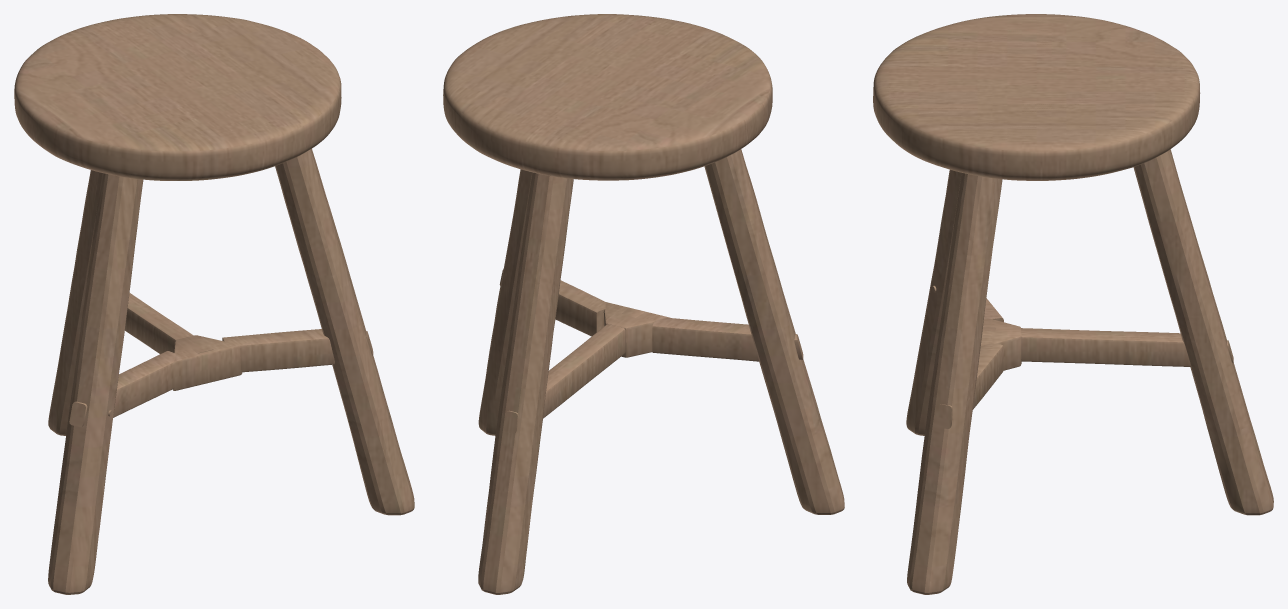
File: recyUilQe2b5Xk5Zs.glb
The picture shows the model from 3 angles, left to right: view 1: azimuth 30°, elevation 25°; view 2: azimuth 150°, elevation 25°; view 3: azimuth 270°, elevation 25°; orthographic projection.
Visible parts, largest first — view 1: Tabouret_Assise, Tabouret_Pied_Avant_G, Tabouret_Pied_Avant_D, Tabouret_Pied_Arriere, Tabouret_Traverse_Avant_D, Tabouret_Noeud_Central, Tabouret_Traverse_Avant_G, Tabouret_Traverse_Arriere; view 2: Tabouret_Assise, Tabouret_Pied_Arriere, Tabouret_Pied_Avant_G, Tabouret_Pied_Avant_D, Tabouret_Traverse_Avant_G, Tabouret_Traverse_Arriere, Tabouret_Traverse_Avant_D, Tabouret_Noeud_Central; view 3: Tabouret_Assise, Tabouret_Pied_Avant_D, Tabouret_Pied_Arriere, Tabouret_Traverse_Arriere, Tabouret_Pied_Avant_G, Tabouret_Traverse_Avant_D, Tabouret_Noeud_Central.
Boxes of the visible parts, <box> form: Tabouret_Assise: <box>14,14,341,180</box>; Tabouret_Pied_Avant_G: <box>48,173,143,594</box>; Tabouret_Pied_Avant_D: <box>275,148,414,515</box>; Tabouret_Pied_Arriere: <box>48,170,102,435</box>; Tabouret_Traverse_Avant_D: <box>222,329,373,372</box>; Tabouret_Noeud_Central: <box>173,335,242,390</box>; Tabouret_Traverse_Avant_G: <box>69,351,175,426</box>; Tabouret_Traverse_Arriere: <box>125,293,213,353</box>; Tabouret_Assise: <box>443,14,772,180</box>; Tabouret_Pied_Arriere: <box>478,172,573,594</box>; Tabouret_Pied_Avant_G: <box>704,149,844,514</box>; Tabouret_Pied_Avant_D: <box>478,169,532,435</box>; Tabouret_Traverse_Avant_G: <box>652,318,803,361</box>; Tabouret_Traverse_Arriere: <box>504,308,643,433</box>; Tabouret_Traverse_Avant_D: <box>499,269,606,336</box>; Tabouret_Noeud_Central: <box>603,302,670,357</box>; Tabouret_Assise: <box>873,14,1200,180</box>; Tabouret_Pied_Avant_D: <box>907,173,1002,594</box>; Tabouret_Pied_Arriere: <box>1133,149,1273,515</box>; Tabouret_Traverse_Arriere: <box>982,327,1233,366</box>; Tabouret_Pied_Avant_G: <box>906,169,961,435</box>; Tabouret_Traverse_Avant_D: <box>937,343,1003,428</box>; Tabouret_Noeud_Central: <box>981,317,1021,370</box>.
Size of the model in its own units: 0.4416 by 0.5002 by 0.4238.
1 material, 1 textured.
